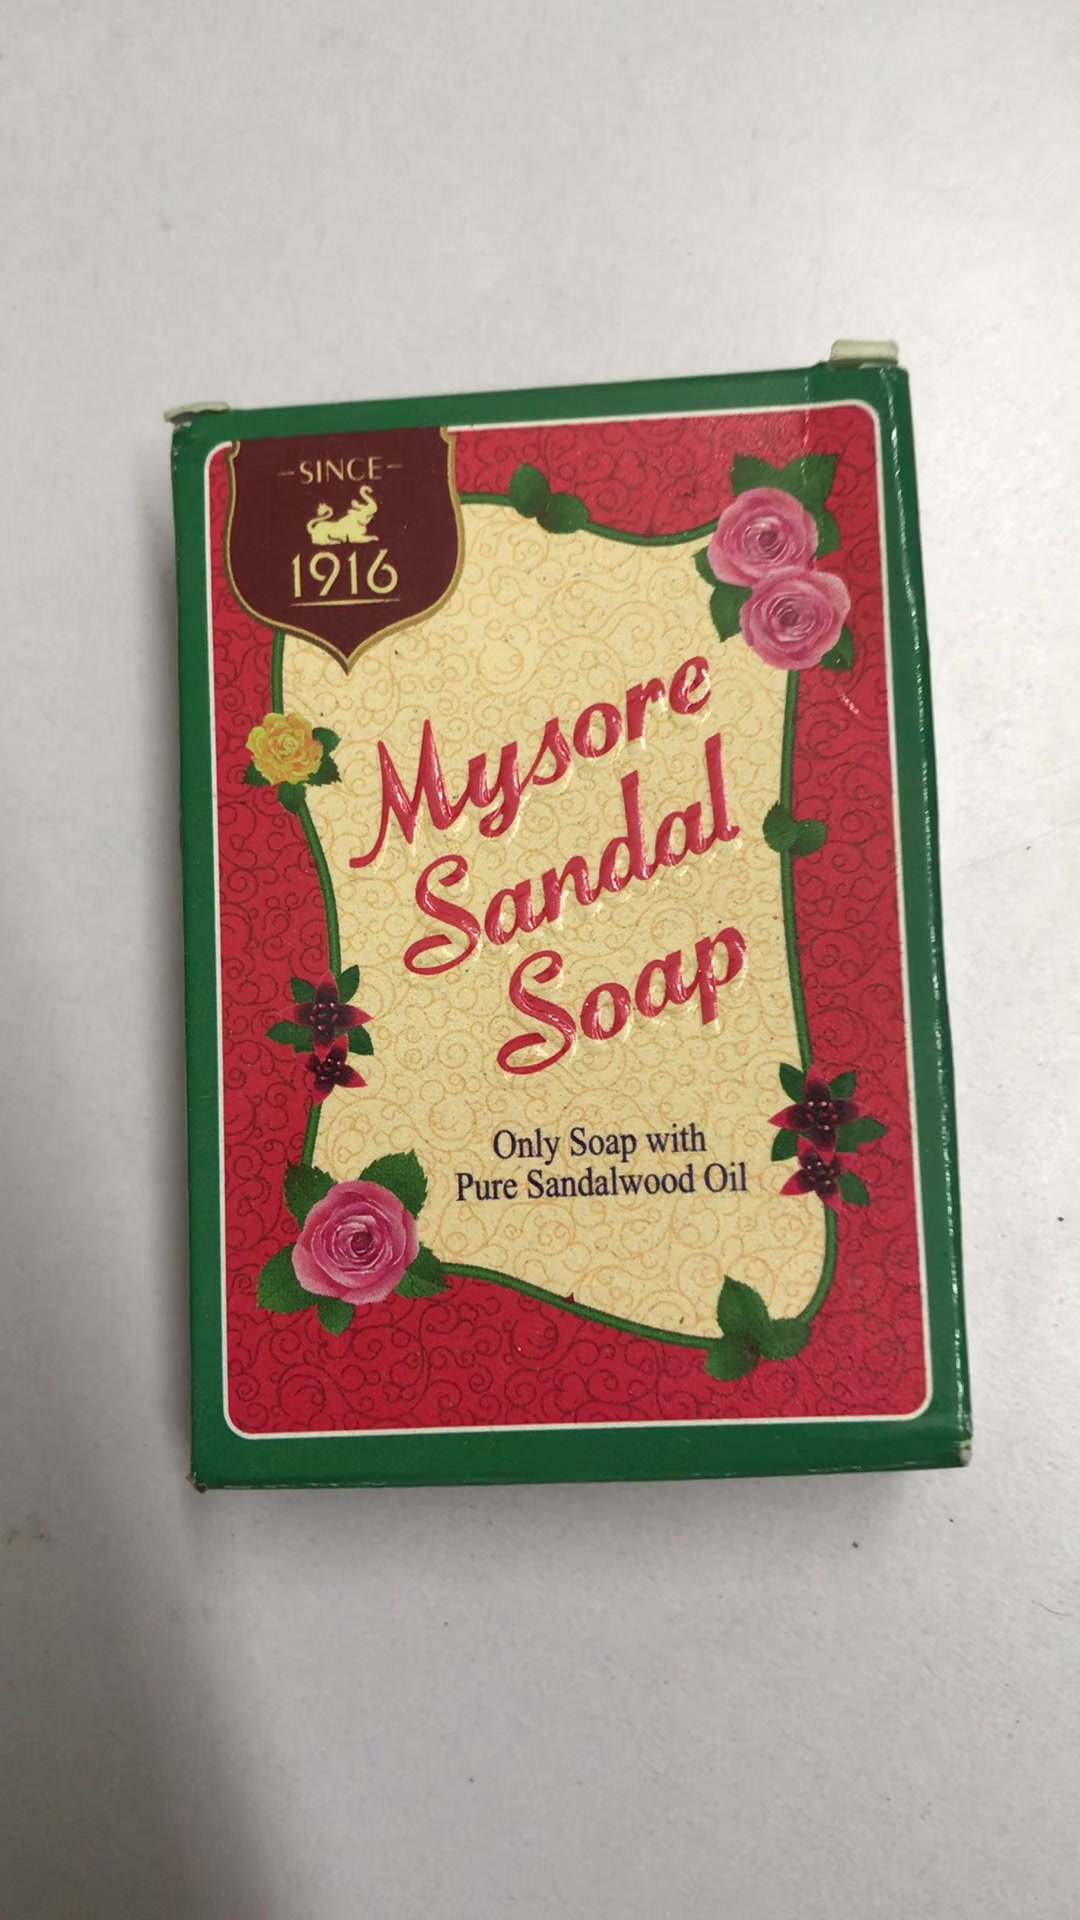mysore sandal soap: (165, 353, 972, 1490)
